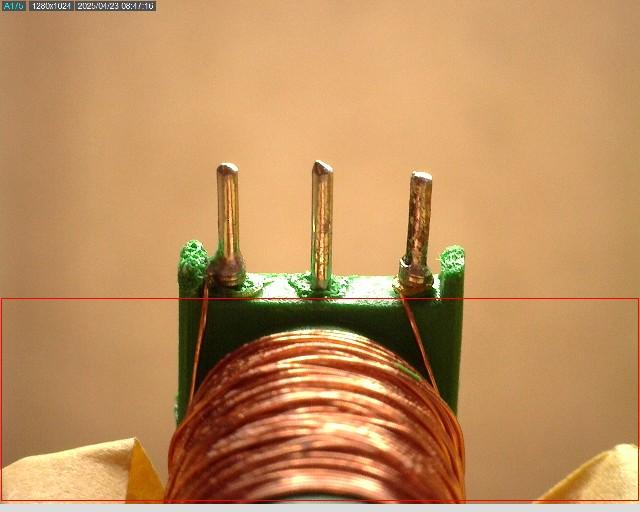bad: (396, 168, 435, 292), (308, 156, 334, 291)
good: (207, 163, 252, 287)
